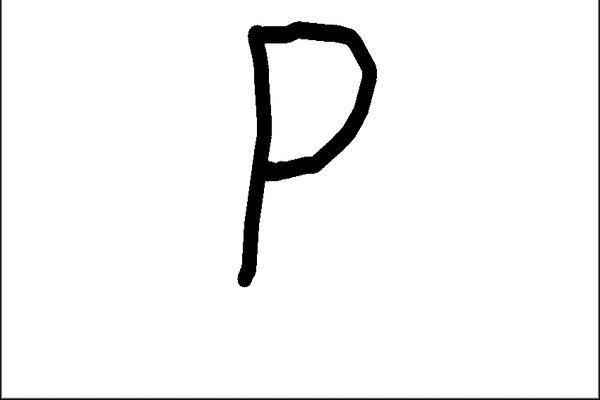P: (226, 15, 393, 305)
